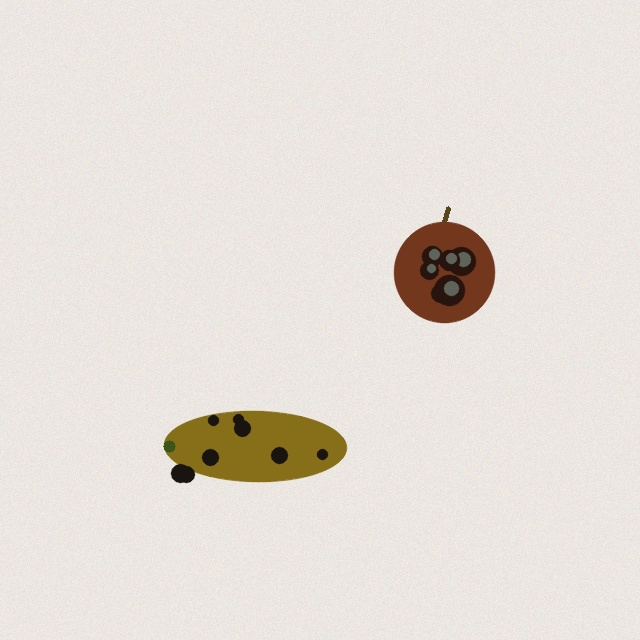Rotten apple: (394, 208, 494, 322)
Rotten banana: (160, 403, 350, 489)
